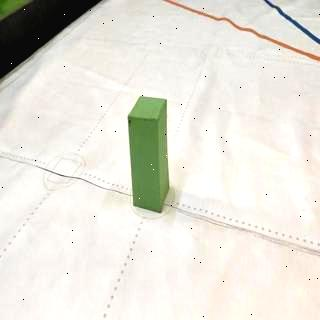greenbox: (127, 94, 168, 214)
